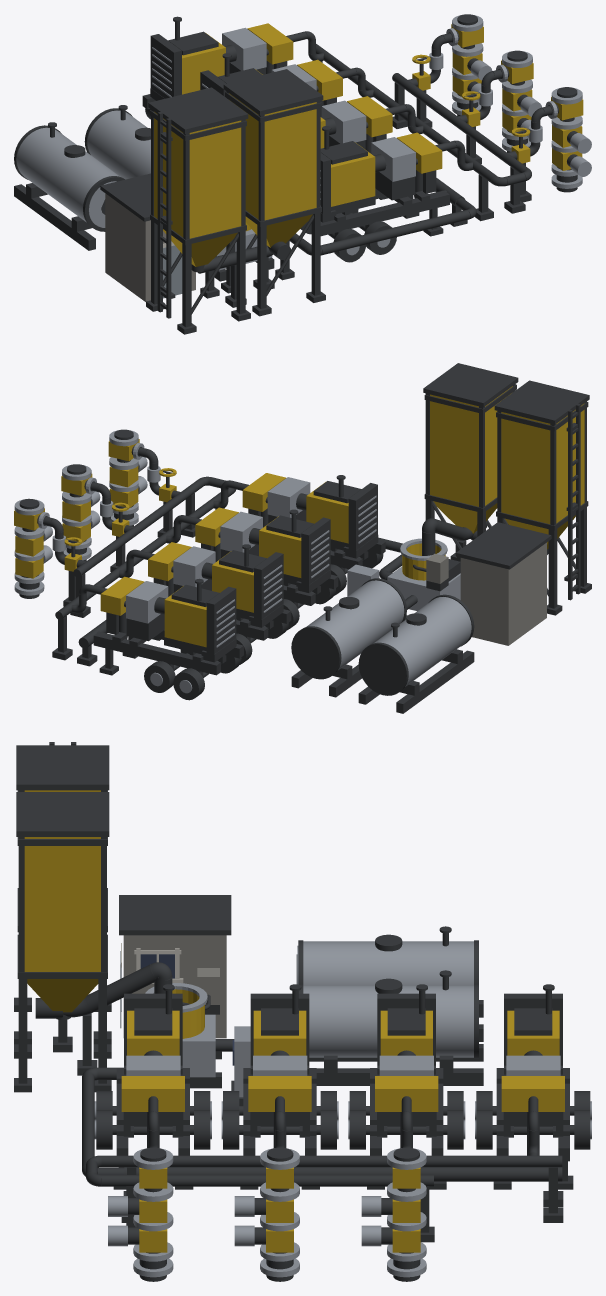
File: fracking_oil_well_lvl3.glb
3 views of the same model, one above another, from view 1: azimuth 30°, elevation 25°; view 2: azimuth 150°, elevation 25°; view 3: azimuth 270°, elevation 25° (orthographic). The views are drawn at different scales.
Visible parts, largest first — view 1: fracking_oil_well; view 2: fracking_oil_well; view 3: fracking_oil_well.
Boxes of the visible parts, x1,y1,x2,y2 form: fracking_oil_well: [14, 14, 591, 334]; fracking_oil_well: [14, 363, 591, 713]; fracking_oil_well: [14, 742, 591, 1281].
Bounding box in the file's own units: 1 × 0.4318 × 0.8673.
